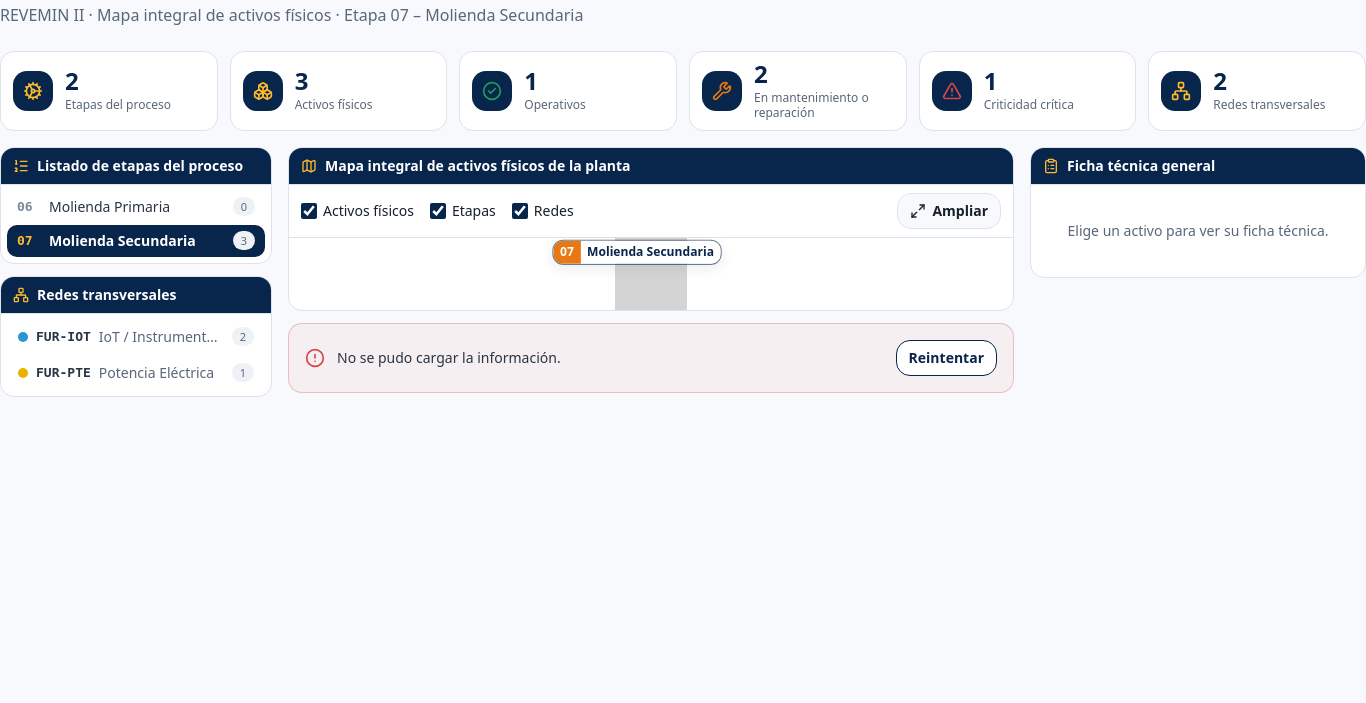
Geoportal de Activos Físicos › error al cargar los activos: alerta con reintentar
Expected: the message shows "No se pudo cargar", [337,348,561,366]
Click the button "Reintentar". click: click(946, 358)
box: [896,340,997,376]
(page scrolled)
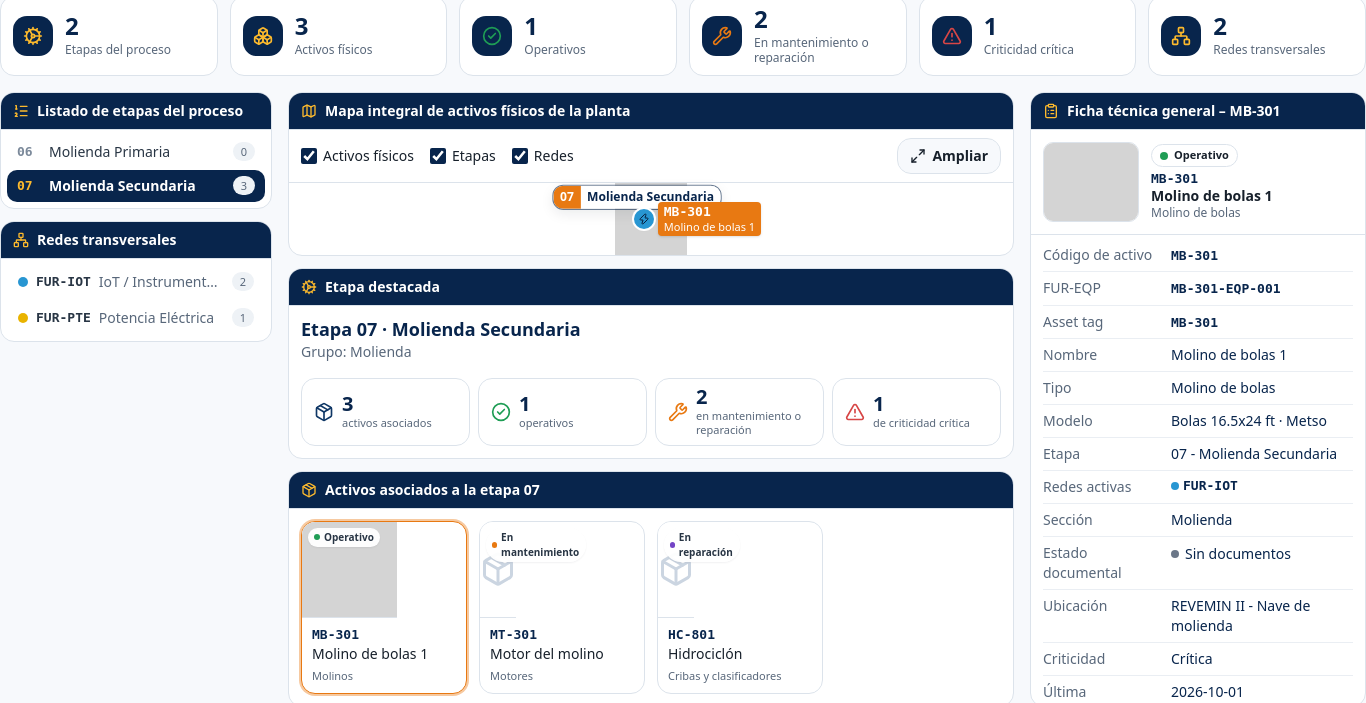
Expected: the button "Operativo MB-301 Molino de bolas 1 Molinos" is shown, [301,520,467,694]
